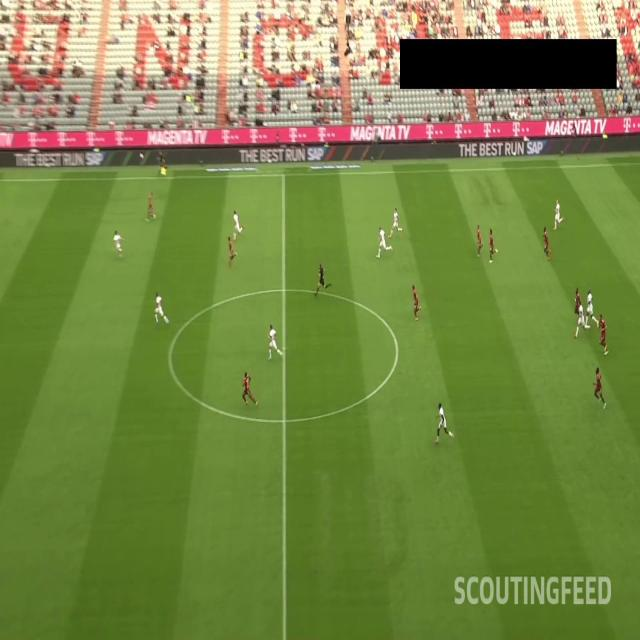player: (431, 398, 455, 448), (591, 364, 608, 414), (572, 301, 593, 341), (374, 222, 394, 262), (266, 323, 285, 364), (240, 368, 258, 411), (583, 290, 601, 331), (596, 308, 610, 360), (152, 291, 170, 330), (110, 228, 129, 264), (142, 187, 159, 225), (410, 283, 425, 325), (388, 206, 404, 241), (232, 208, 246, 246), (552, 198, 567, 233), (541, 224, 553, 264), (474, 220, 486, 259), (226, 233, 238, 271), (573, 288, 585, 324), (488, 228, 499, 264)
referee: (312, 260, 332, 300), (155, 150, 169, 179)
